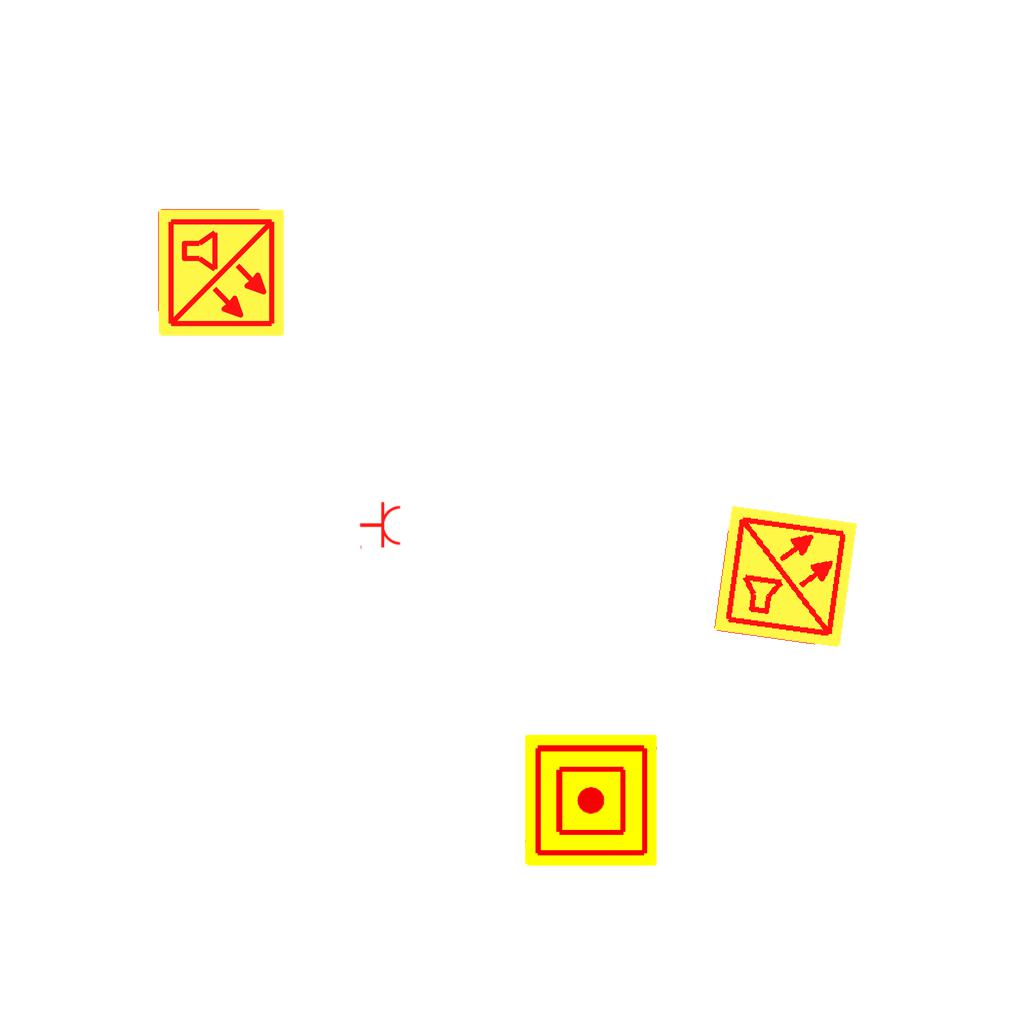NAM-Nichtautomatischer_Melder: (525, 734, 657, 866)
OKW_Multisensormelder_(Kombination_optischer_Rauch-Kahlenmonoxid_Waerme-Melder): (711, 502, 861, 652), (155, 207, 287, 339)
Schukosteckdose_einfach: (359, 501, 402, 551)
